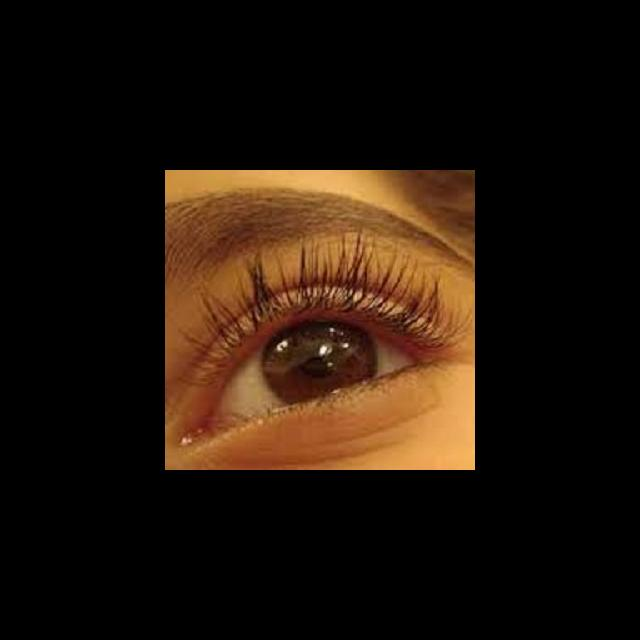eye: (207, 318, 416, 426)
iris: (264, 322, 378, 408)
